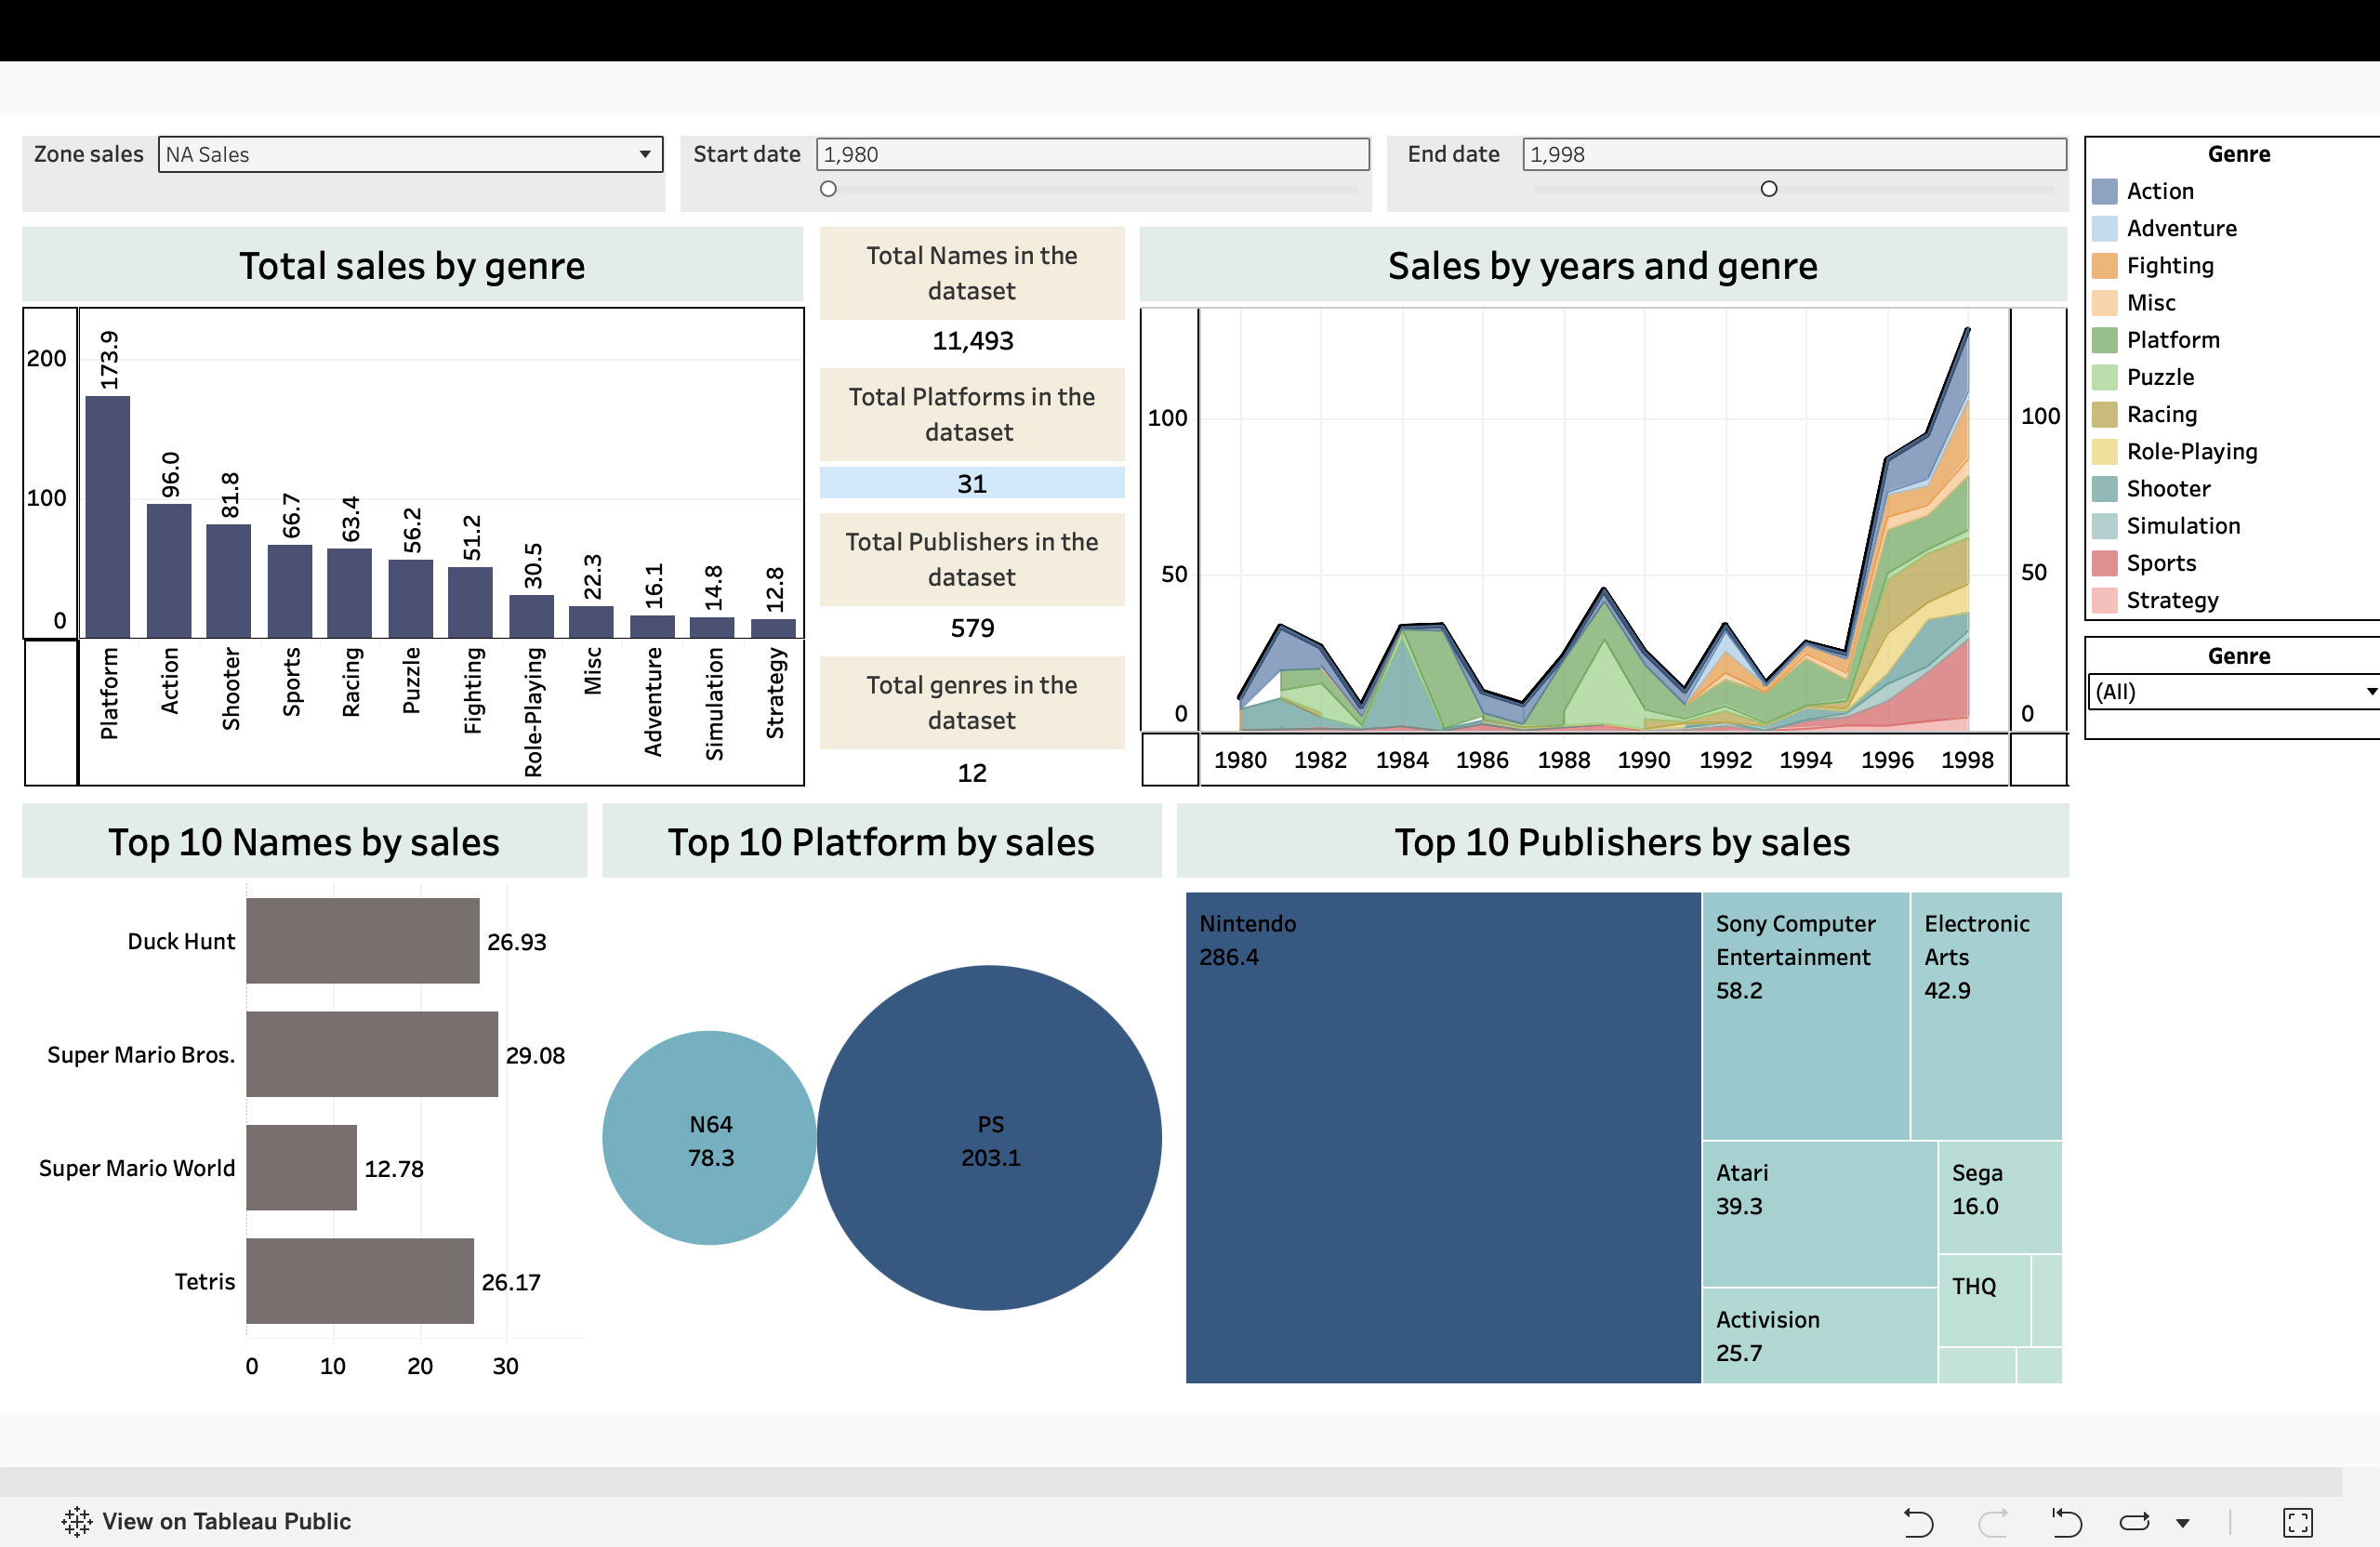

The page's visual inventory and layout, read from the dashboard file:
{"tool":"tableau","page":{"name":"Global Video Game Sales Analytics Dashboard","canvas":[1300,700],"ordinal":0},"visuals":[{"type":"parameter","param":"[Parameters].[Parameter 2963771591692289]","box":[8,8,354,48.7]},{"type":"parameter","param":"[Parameters].[Parameter 2963771595165700]","box":[362,8,379.6,48.7]},{"type":"parameter","param":"[Parameters].[Parameter 2963771595337733]","box":[741.5,8,375.5,48.7]},{"type":"legend","title":"Sales by years and genre","param":"[federated.03yfix31b5uypm1bdwjye0vh6bp6].[none:Genre:nk]","box":[1117,8,175,268]},{"type":"worksheet","title":"Total sales by genre","mark":"Automatic","rows":["Calculation_2963771592220674"],"cols":["Genre"],"box":[8,56.7,429.2,309.8]},{"type":"worksheet","title":"Total Names in the dataset","mark":"Automatic","box":[437.2,56.7,171.4,76.3]},{"type":"worksheet","title":"Sales by years and genre","mark":"Automatic","rows":["Calculation_2963771592220674","Calculation_2963771592220674"],"cols":["Year"],"box":[608.6,56.7,508.4,309.8]},{"type":"worksheet","title":"Total Platforms in the dataset ","mark":"Automatic","box":[437.2,133,171.4,78.3]},{"type":"worksheet","title":"Total Publishers in the dataset ","mark":"Automatic","box":[437.2,211.3,171.4,76.7]},{"type":"filter","title":"Sales by years and genre","param":"[federated.03yfix31b5uypm1bdwjye0vh6bp6].[none:Genre:nk]","box":[1117,276,175,60]},{"type":"worksheet","title":"Total genres in the dataset","mark":"Automatic","box":[437.2,288,171.4,78.6]},{"type":"worksheet","title":"Top 10 Names by sales","mark":"Automatic","rows":["Name"],"cols":["Calculation_2963771592220674"],"box":[8,366.6,311.5,325.4]},{"type":"worksheet","title":"Top 10 Platform by sales","mark":"Circle","box":[319.5,366.6,309.1,325.4]},{"type":"worksheet","title":"Top 10 Publisher by sales","mark":"Automatic","box":[628.6,366.6,488.4,325.4]}]}

Visuals, with their boxes in screenshot pixels (x1, y1, x2, y2):
parameter: <box>71,0,709,53</box>
parameter: <box>709,0,1395,53</box>
parameter: <box>1395,0,2072,53</box>
"Sales by years and genre" legend: <box>2072,0,2379,449</box>
"Total sales by genre" worksheet: <box>71,53,845,612</box>
"Total Names in the dataset" worksheet: <box>845,53,1155,191</box>
"Sales by years and genre" worksheet: <box>1155,53,2072,612</box>
"Total Platforms in the dataset " worksheet: <box>845,191,1155,332</box>
"Total Publishers in the dataset " worksheet: <box>845,332,1155,470</box>
"Sales by years and genre" filter: <box>2072,449,2379,557</box>
"Total genres in the dataset" worksheet: <box>845,470,1155,613</box>
"Top 10 Names by sales" worksheet: <box>71,613,632,1200</box>
"Top 10 Platform by sales" worksheet (Circle marks): <box>632,613,1191,1200</box>
"Top 10 Publisher by sales" worksheet: <box>1191,613,2072,1200</box>
